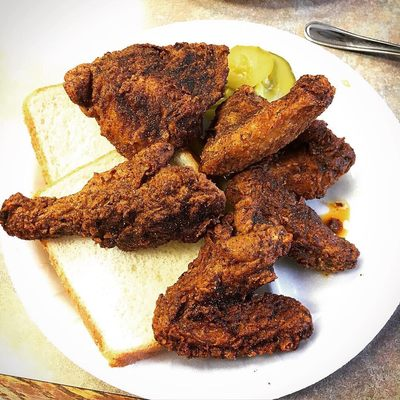sandwich: (304, 21, 400, 59)
